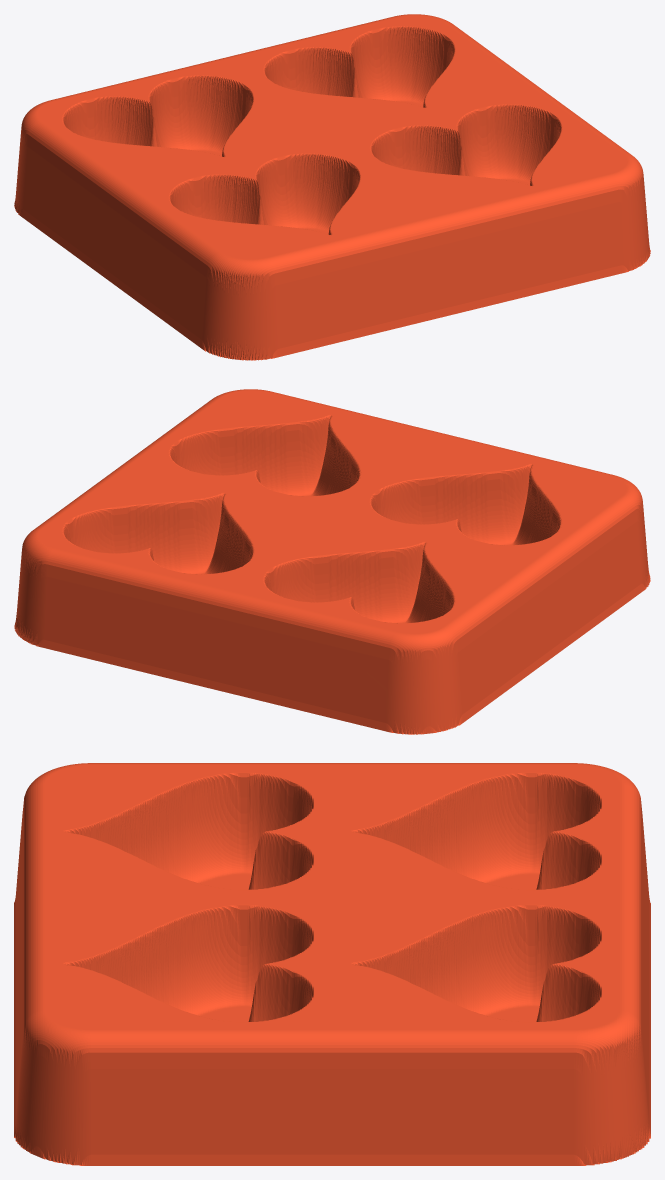
File: mold.glb
3 renders of one model, top to bottom at view 1: azimuth 30°, elevation 25°; view 2: azimuth 150°, elevation 25°; view 3: azimuth 270°, elevation 25°, orthographic. The views are drawn at different scales.
Parts seen in each view (by area): view 1: geometry_0; view 2: geometry_0; view 3: geometry_0.
Boxes of the visible parts, x1,y1,x2,y2 form: geometry_0: (14,14,650,360); geometry_0: (14,389,650,734); geometry_0: (14,763,650,1165).
Size of the model in its own units: 0.0808 by 0.0159 by 0.0748.
